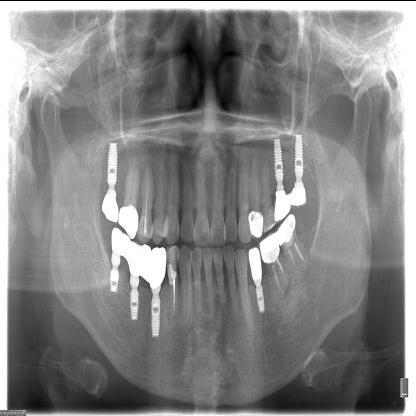Bicon: (127, 269, 142, 327), (292, 126, 306, 184), (251, 272, 267, 322), (272, 131, 286, 188), (105, 249, 121, 298), (149, 286, 163, 342), (106, 140, 120, 194)
